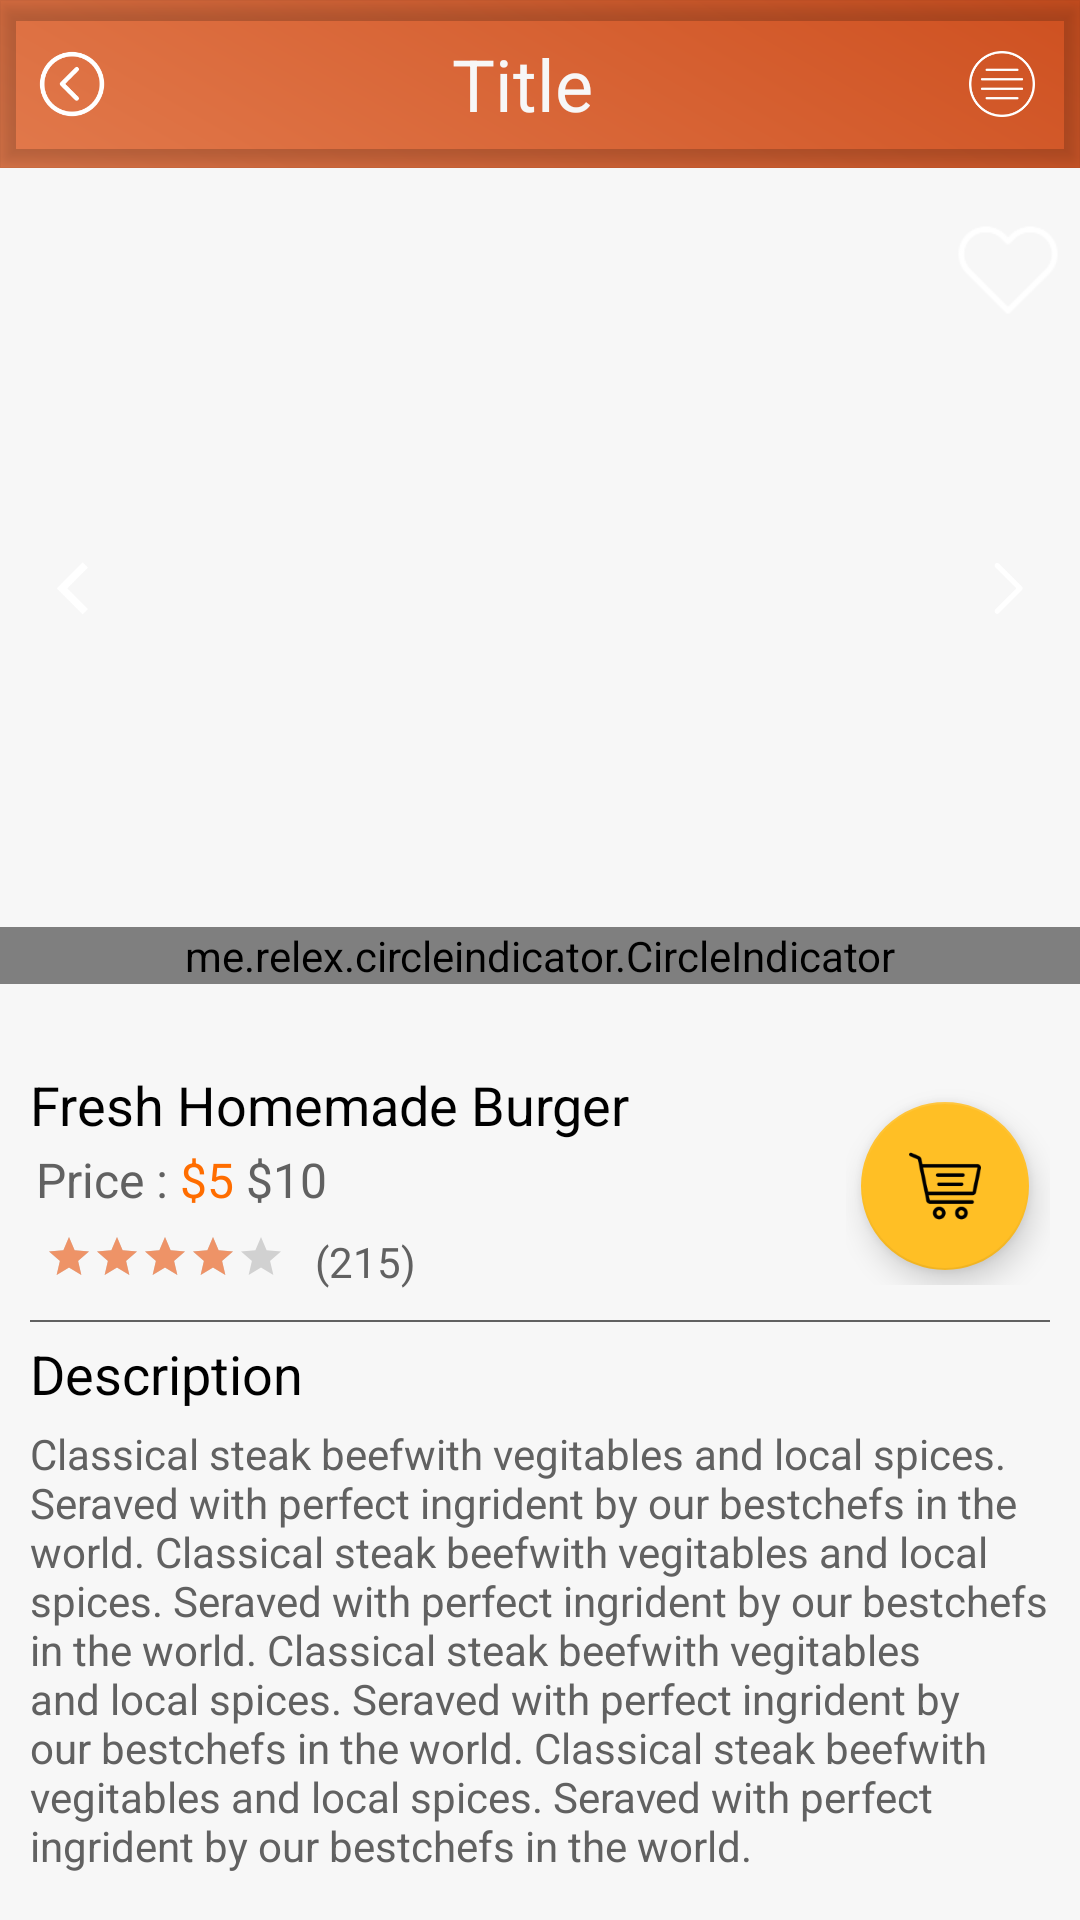

Named icons in this screenshot (1080 x 1920) and their bounding boxes, {"x1": x1, "y1": y1, "x2": x2, "y2": y2}:
shopping cart: {"x1": 861, "y1": 1102, "x2": 1029, "y2": 1270}
